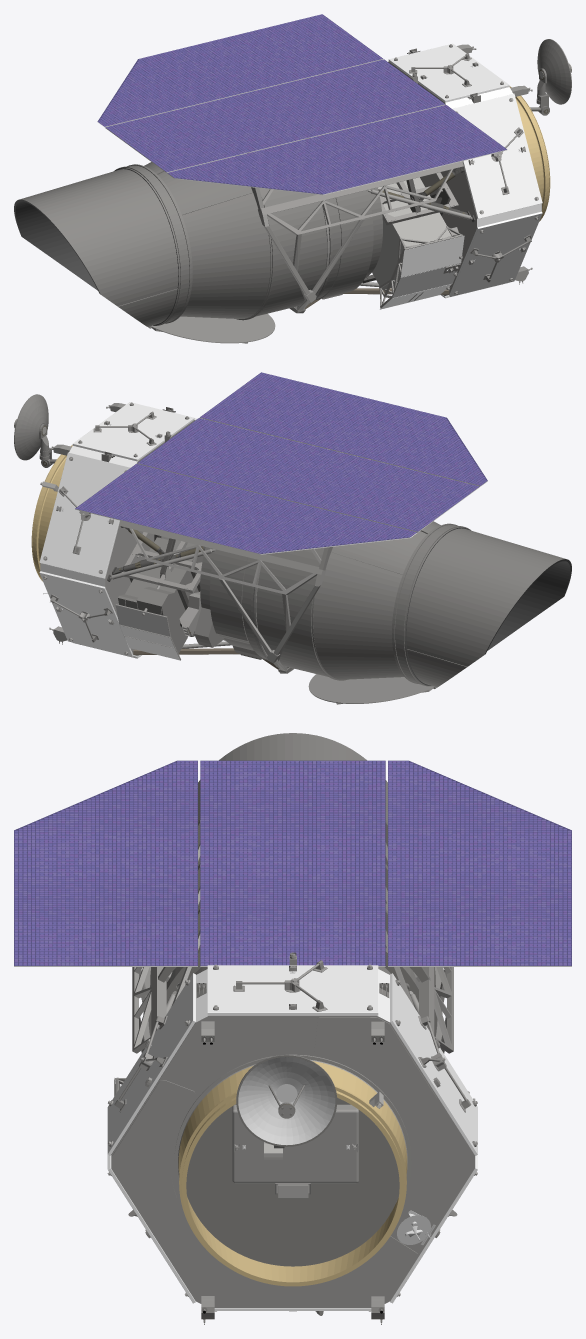
The model's file is NancyRomanSpaceTelescope.fbx.
The picture shows the model from 3 angles, top to bottom: view 1: azimuth 30°, elevation 25°; view 2: azimuth 150°, elevation 25°; view 3: azimuth 270°, elevation 25°; orthographic projection. The views are drawn at different scales.
Visible parts, largest first — view 1: afta2015-maintube, afta2015-maintube.001, afta2015-maintube.002; view 2: afta2015-maintube, afta2015-maintube.002, afta2015-maintube.001; view 3: afta2015-maintube, afta2015-maintube.002, afta2015-maintube.001.
Boxes of the visible parts, x1=… form: afta2015-maintube: x1=14, y1=39, x2=571, y2=343; afta2015-maintube.001: x1=167, y1=105, x2=507, y2=195; afta2015-maintube.002: x1=97, y1=14, x2=383, y2=127; afta2015-maintube: x1=14, y1=394, x2=571, y2=704; afta2015-maintube.002: x1=75, y1=463, x2=417, y2=554; afta2015-maintube.001: x1=199, y1=372, x2=487, y2=486; afta2015-maintube: x1=107, y1=733, x2=477, y2=1324; afta2015-maintube.002: x1=388, y1=760, x2=571, y2=985; afta2015-maintube.001: x1=14, y1=760, x2=197, y2=982.
Bounding box in the file's own units: 34430 × 13052 × 20702.
